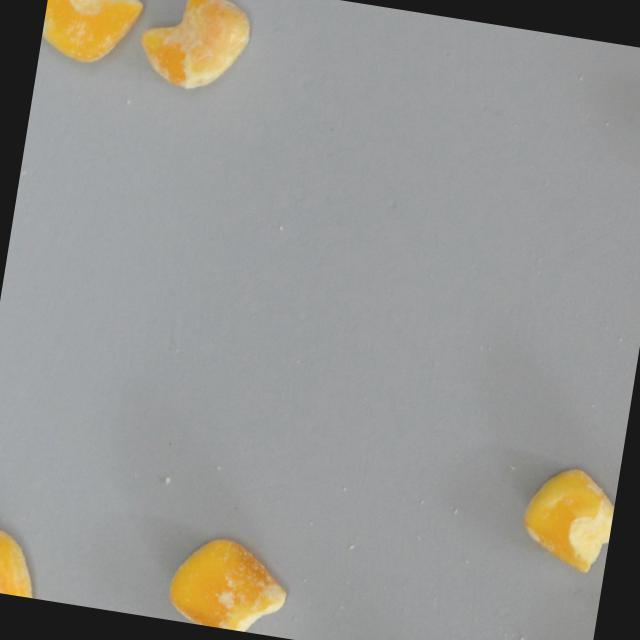pelicula: (160, 530, 292, 637), (516, 461, 619, 575), (132, 0, 253, 97), (38, 0, 143, 68), (0, 526, 42, 598)
